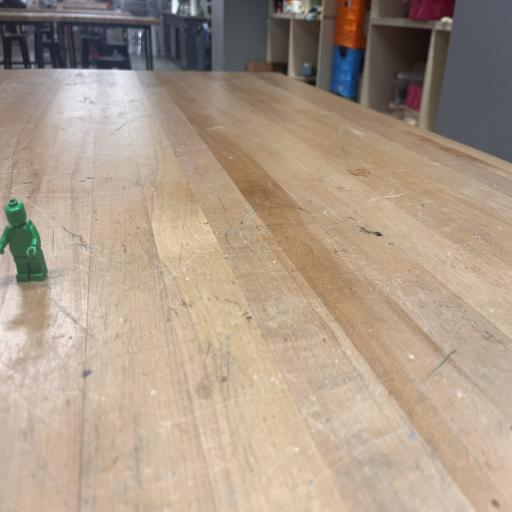Lego-Minifig: (0, 199, 47, 282)
